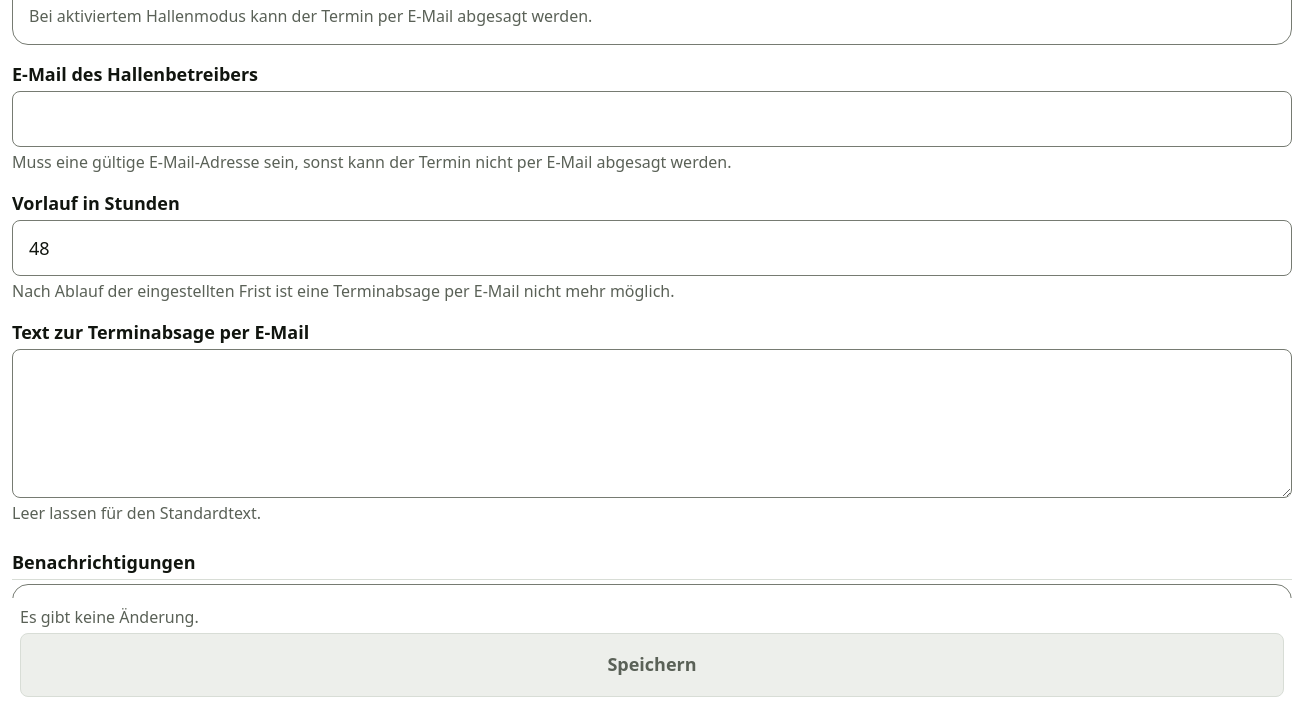
AdminKonfiguration – Prüfung › ein ungültiger Wert wird nicht gesendet, der Fokus geht auf das erste fehlerhafte Feld
(page scrolled)
Replace the text in the field with test id "admin-konfig-halleVorlaufStunden" with "-1" at (652, 248), box [12,220,1292,276]
(page scrolled)
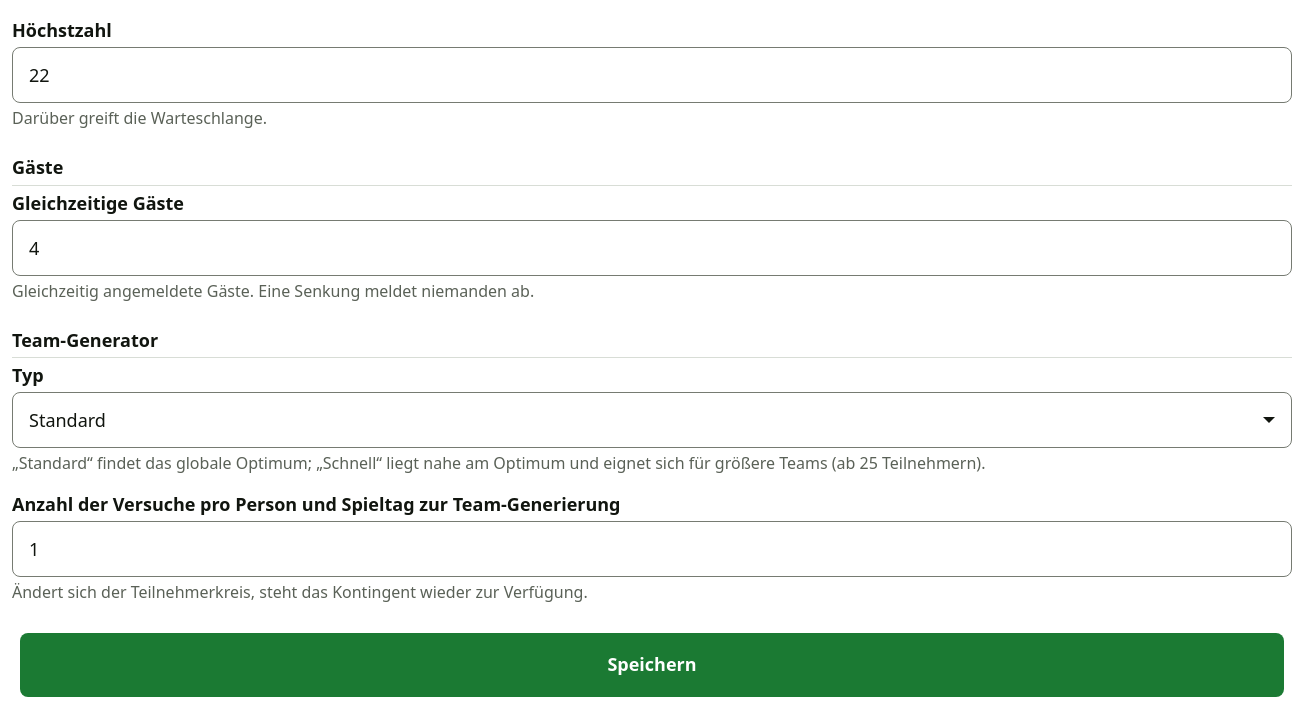
Replace the text in the field with test id "admin-konfig-anzGuests" with "99" at (652, 248), box [12,220,1292,276]
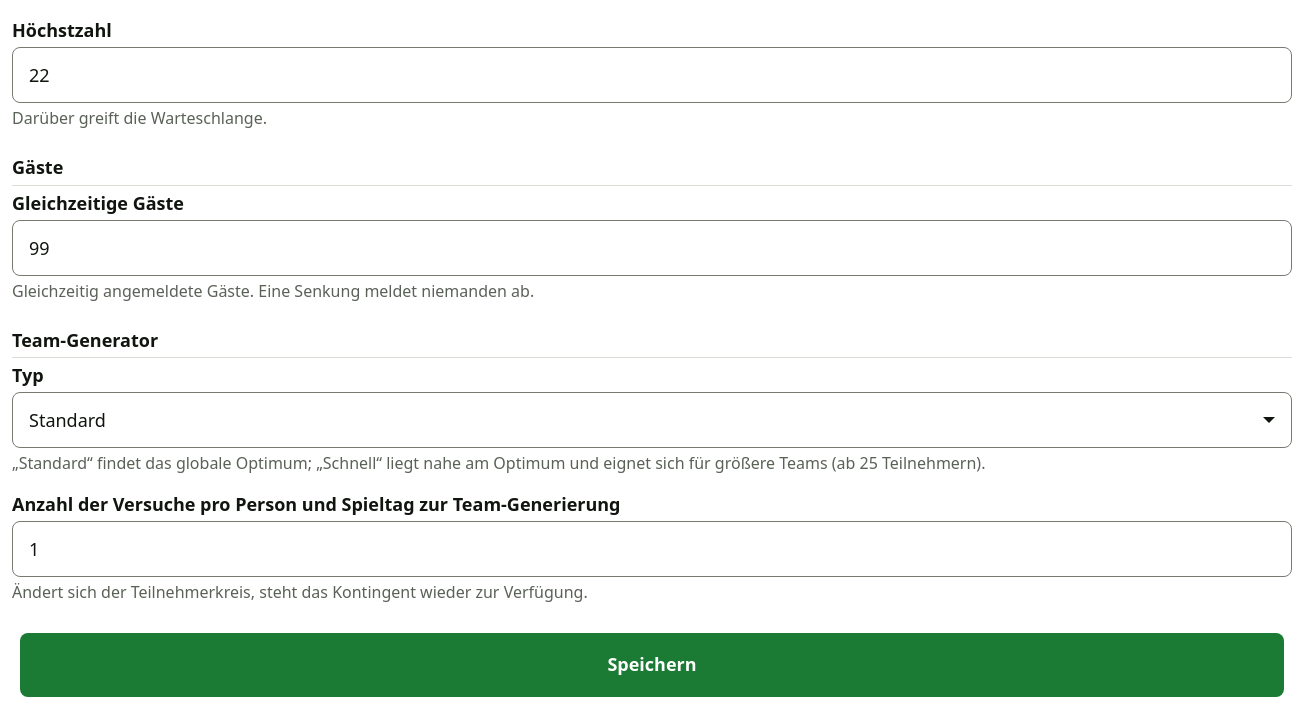
Click the button with test id "admin-konfig-speichern".
click(652, 665)  # box [20,633,1284,697]
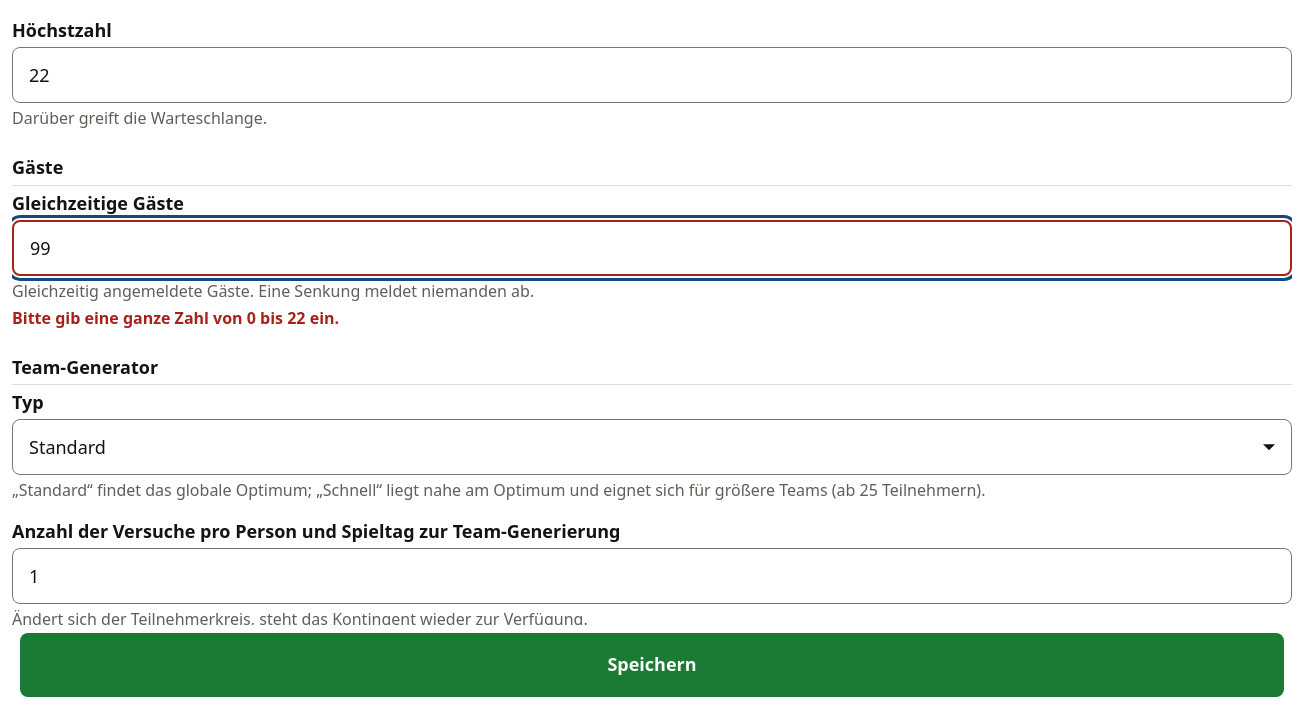
Now the text with test id "admin-konfig-anzGuests-fehler" shows "von 0 bis 22", box [12,307,339,329]
